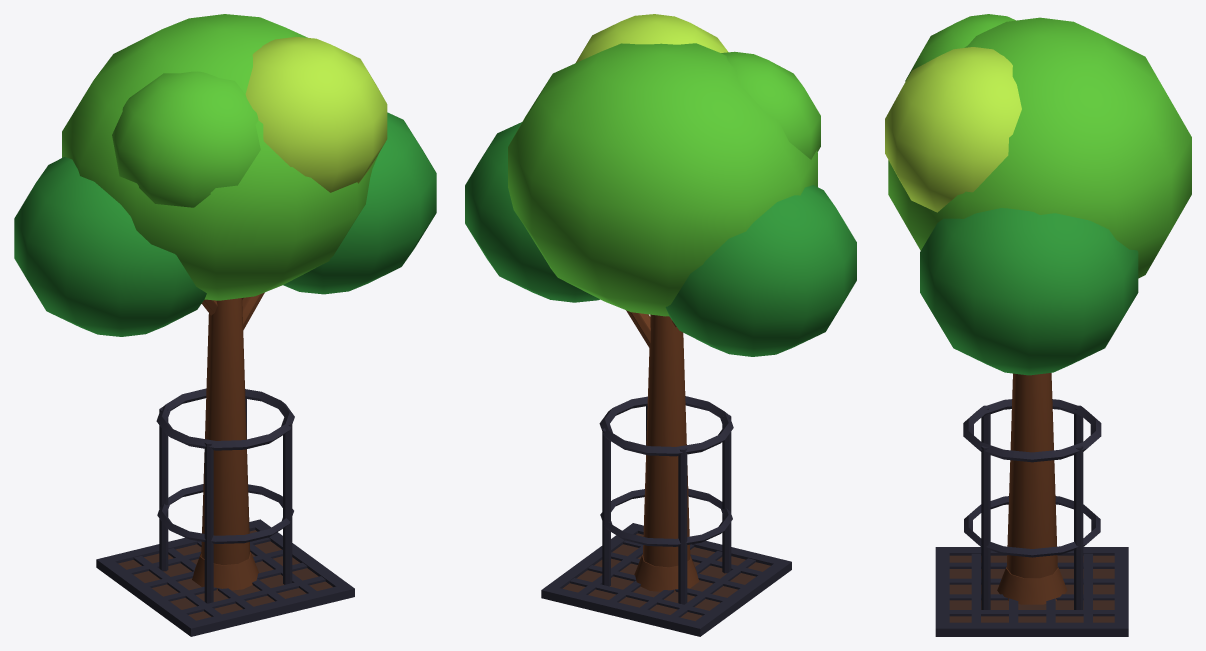
File: street_tree.glb
3 views of the same model, side by side, from view 1: azimuth 30°, elevation 25°; view 2: azimuth 150°, elevation 25°; view 3: azimuth 270°, elevation 25° (orthographic). The views are drawn at different scales.
Parts seen in each view (by area): view 1: street_tree; view 2: street_tree; view 3: street_tree.
Boxes of the visible parts, x1,y1,x2,y2 form: street_tree: (14, 14, 436, 636); street_tree: (465, 14, 856, 636); street_tree: (885, 14, 1191, 636).
Size of the model in its own units: 2.92 by 3.97 by 1.97.
